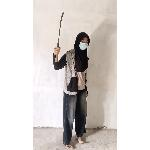Golok: (52, 8, 70, 62)
